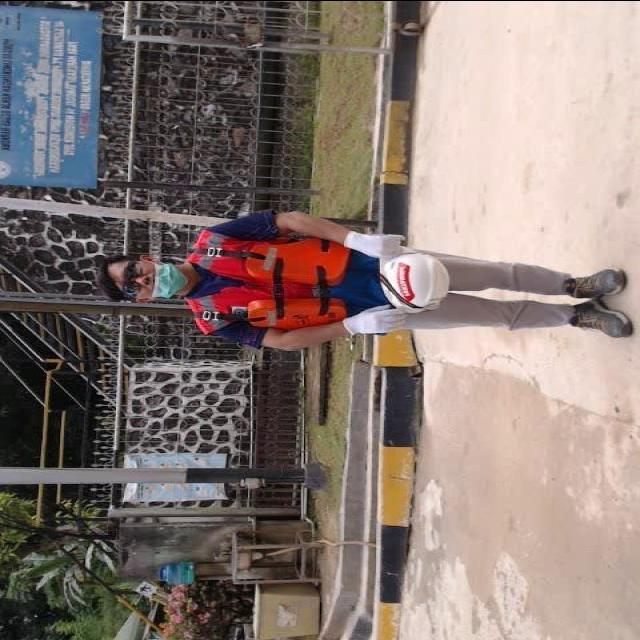jacket: (166, 215, 344, 341)
